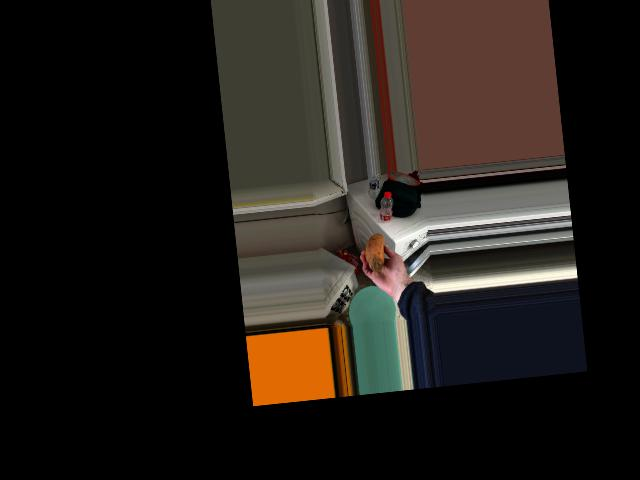sweet_potato: (365, 229, 390, 278)
